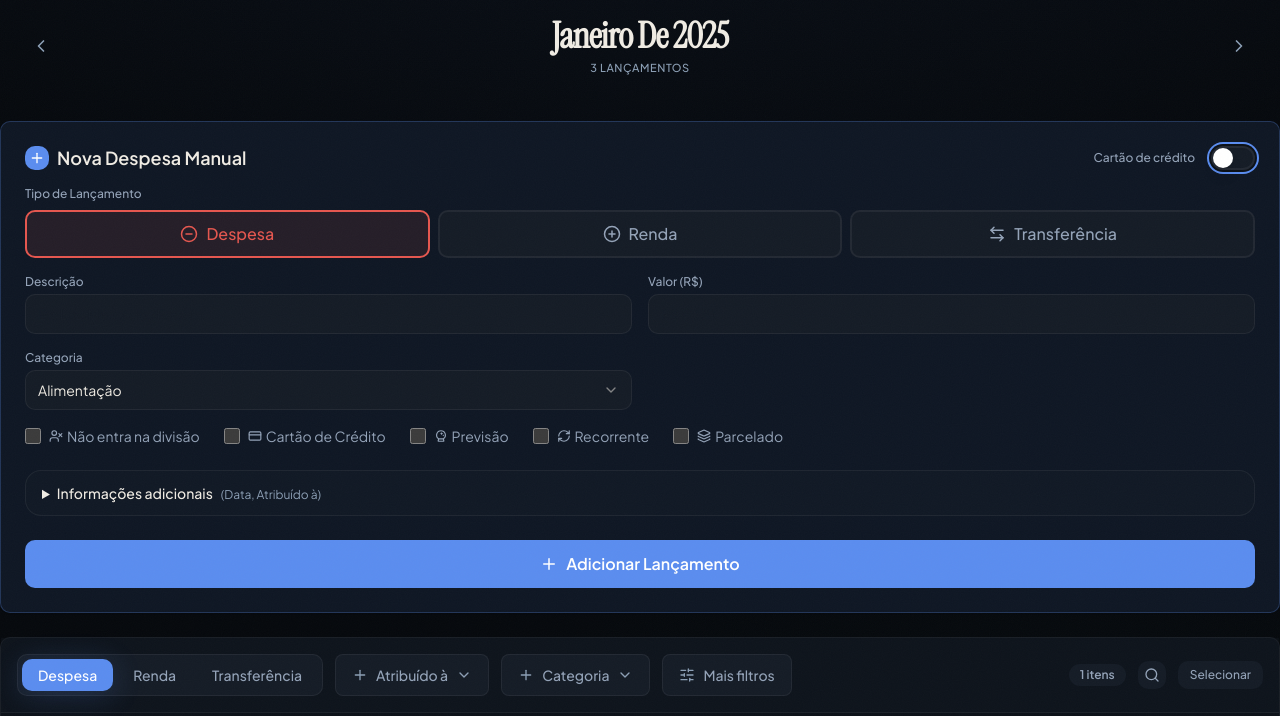
Test: TransactionsView › Transaction list › shows transfer total when filtering by transfer type
The width and height of the screenshot is (1280, 716).
Click the button "Transferência" in the row of "itens". click: (257, 675)
box: x1=196 y1=659 x2=318 y2=691
(page scrolled)
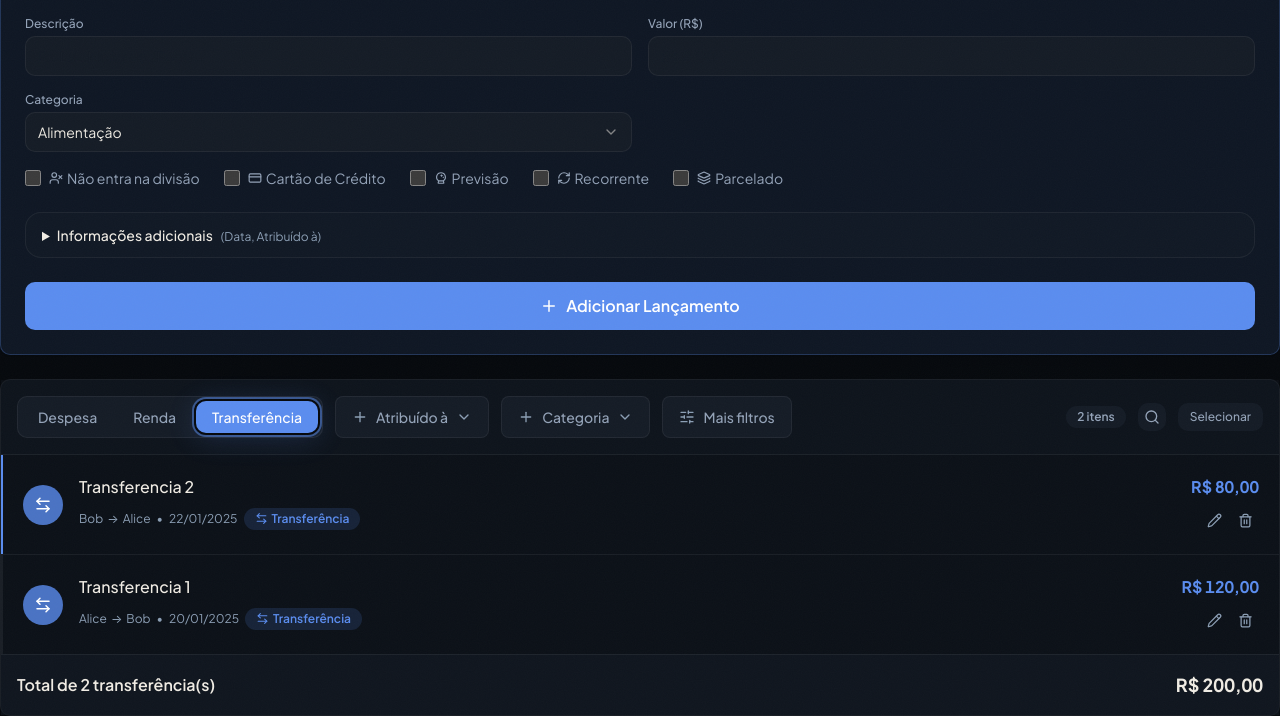
Result: the text "Total de 2 transferência(s)" is shown at x1=17 y1=673 x2=215 y2=697
Result: the text "R$ 200,00" is shown at x1=1176 y1=671 x2=1263 y2=699
